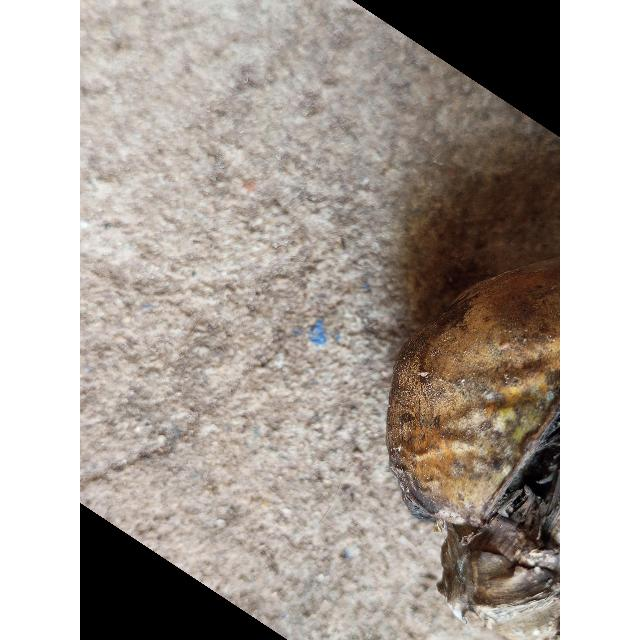damaged: (386, 257, 560, 603)
